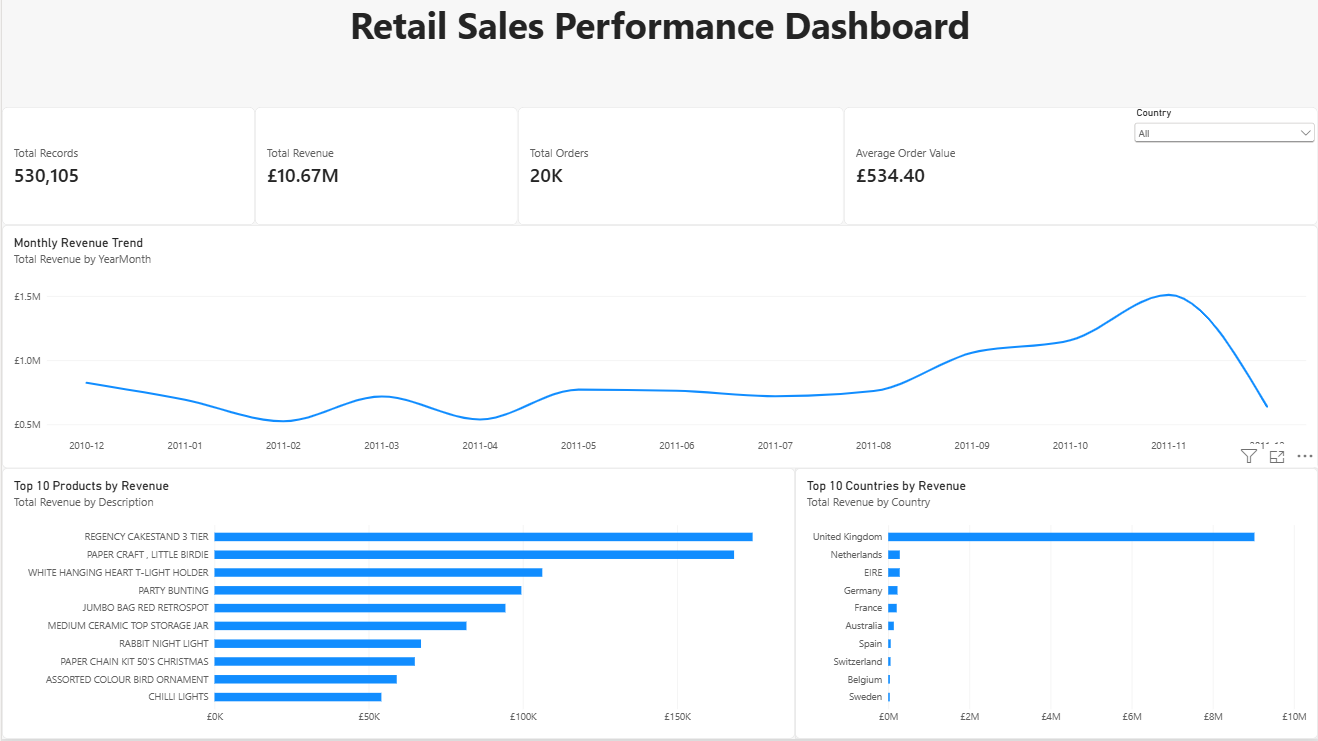

The dashboard page shown, as its layout file describes it:
{"tool":"powerbi","page":{"name":"Page 1","canvas":[1920,1080],"ordinal":0},"visuals":[{"type":"cardVisual","fields":{"Data":["retail_sales_powerbi.Total Records Display"]},"box":[0,157.6,369.1,172.2],"z":0},{"type":"cardVisual","fields":{"Data":["retail_sales_powerbi.Total Revenue"]},"box":[369.1,157.6,383.7,172.2],"z":1000},{"type":"cardVisual","fields":{"Data":["retail_sales_powerbi.Total Orders"]},"box":[752.8,157.6,475.6,172.2],"z":2000},{"type":"cardVisual","fields":{"Data":["retail_sales_powerbi.Average Order Value"]},"box":[1228.4,157.6,691.6,172.2],"z":3000},{"type":"lineChart","title":"Monthly Revenue Trend","fields":{"Category":["retail_sales_powerbi.YearMonth"],"Y":["retail_sales_powerbi.Total Revenue"]},"box":[0,329.7,1920,354.5],"z":4000},{"type":"clusteredBarChart","title":"Top 10 Products by Revenue","fields":{"Category":["retail_sales_powerbi.Description"],"Y":["retail_sales_powerbi.Total Revenue"]},"box":[0,684.3,1157,395.4],"z":5000},{"type":"clusteredBarChart","title":"Top 10 Countries by Revenue","fields":{"Category":["retail_sales_powerbi.Country"],"Y":["retail_sales_powerbi.Total Revenue"]},"box":[1157,684.3,763,395.4],"z":6000},{"type":"slicer","fields":{"Values":["retail_sales_powerbi.Country"]},"box":[1647.2,157.6,272.8,140.1],"z":7000},{"type":"textbox","box":[0,0,1920,157.6],"z":7001}]}

Visuals, with their boxes in screenshot pixels (x1, y1, x2, y2), scaled from the page's 1920x1080 canvas onto the 1318x741 screenshot:
cardVisual - retail_sales_powerbi.Total Records Display: [0, 108, 253, 226]
cardVisual - retail_sales_powerbi.Total Revenue: [253, 108, 517, 226]
cardVisual - retail_sales_powerbi.Total Orders: [517, 108, 843, 226]
cardVisual - retail_sales_powerbi.Average Order Value: [843, 108, 1317, 226]
"Monthly Revenue Trend" lineChart: [0, 226, 1317, 469]
"Top 10 Products by Revenue" clusteredBarChart: [0, 470, 794, 740]
"Top 10 Countries by Revenue" clusteredBarChart: [794, 470, 1317, 740]
slicer - retail_sales_powerbi.Country: [1131, 108, 1317, 204]
textbox: [0, 0, 1317, 108]
